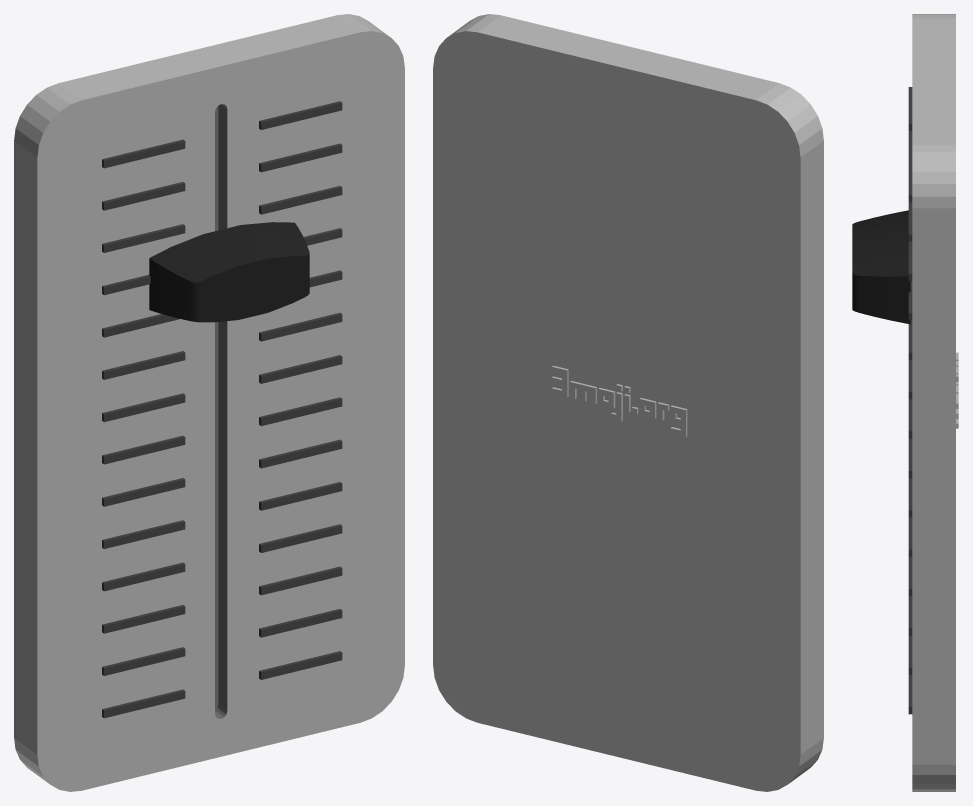
The model's file is level_slider.glb.
3 views of the same model, side by side, from view 1: azimuth 30°, elevation 25°; view 2: azimuth 150°, elevation 25°; view 3: azimuth 270°, elevation 25° (orthographic). The views are drawn at different scales.
Parts seen in each view (by area): view 1: Cube.882; view 2: Cube.882; view 3: Cube.882.
Part boxes in pixels (box(x1,y1,x2,y2)): Cube.882: box(14, 14, 404, 791); Cube.882: box(433, 14, 823, 791); Cube.882: box(852, 14, 958, 791).
Bounding box in the file's own units: 1.29 × 2.31 × 0.3466.
1 material, 1 textured.
